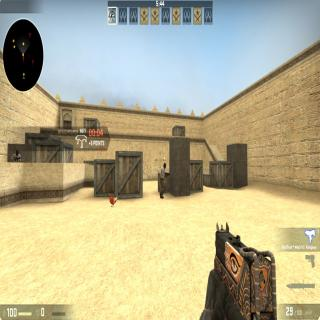T-Body: (159, 162, 167, 199), (12, 149, 22, 163)
T-Head: (162, 162, 166, 169), (15, 149, 19, 156)
